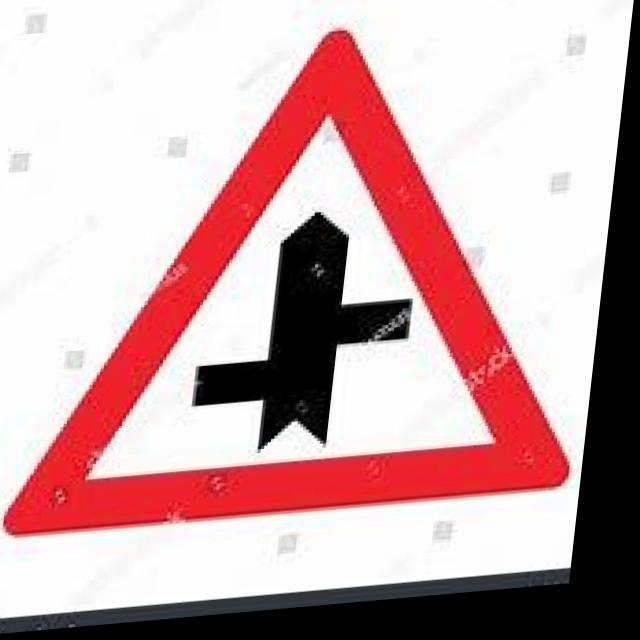STAGGERED_INTERSECTION: (8, 6, 632, 569)
